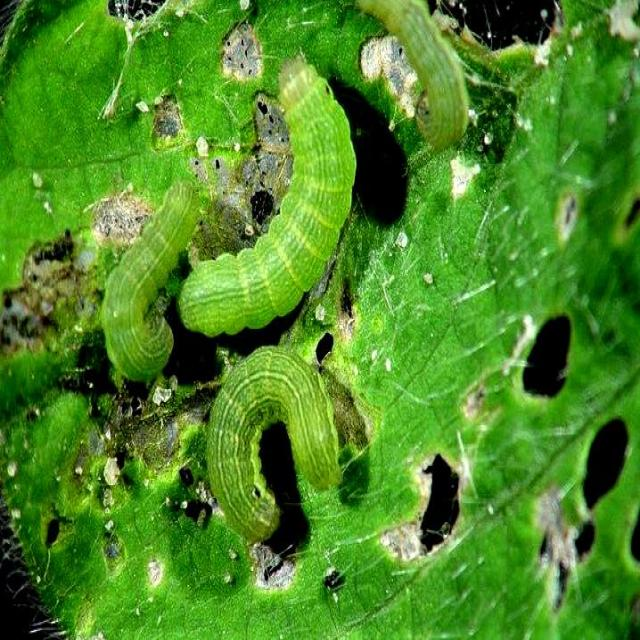Armyworm: (156, 45, 364, 359), (94, 161, 201, 396), (216, 345, 337, 542), (333, 1, 484, 150)
Armyworm_damage: (391, 425, 480, 579), (440, 1, 591, 69), (509, 303, 583, 415), (577, 401, 635, 530)
